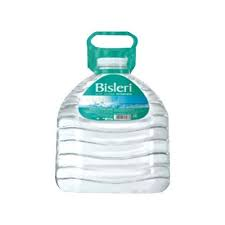Bisleri: (85, 78, 146, 119)
plastic: (68, 90, 163, 199)
